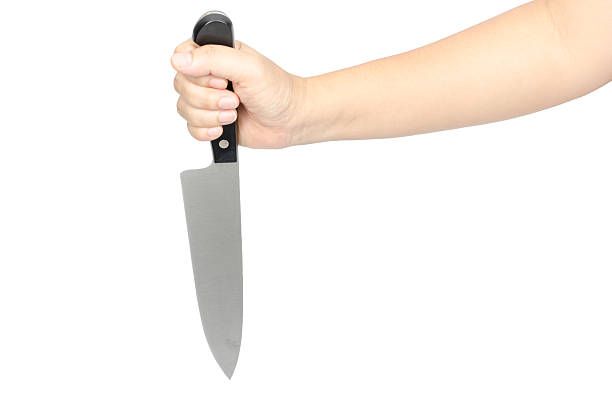knife: (178, 8, 246, 381)
